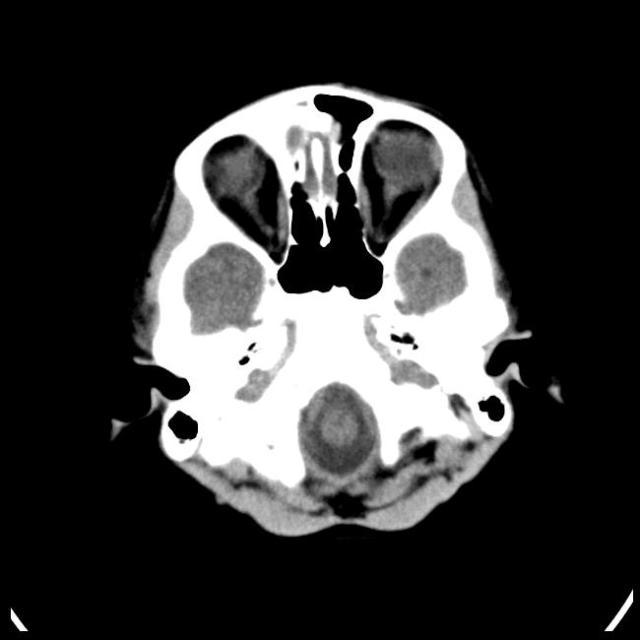lesion: (112, 80, 543, 540)
